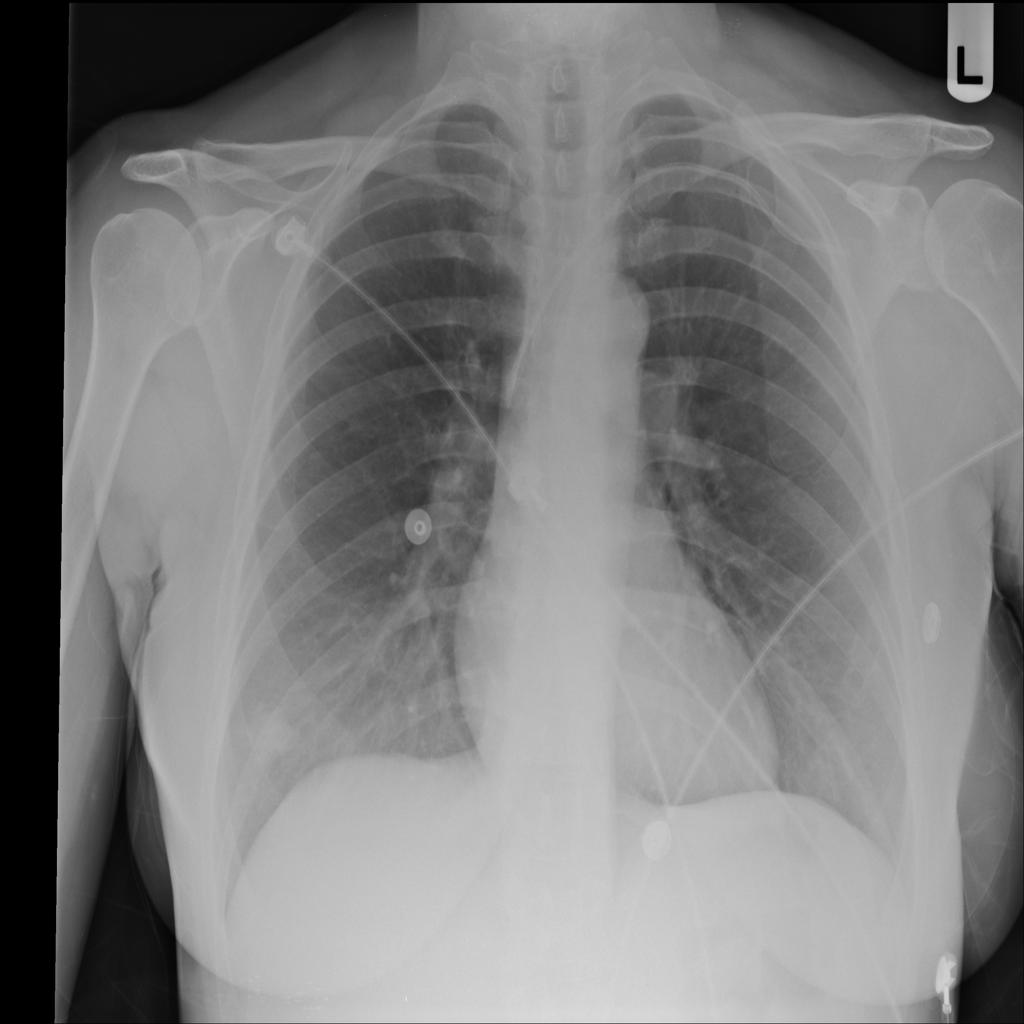nodule: (235, 692, 306, 772)
